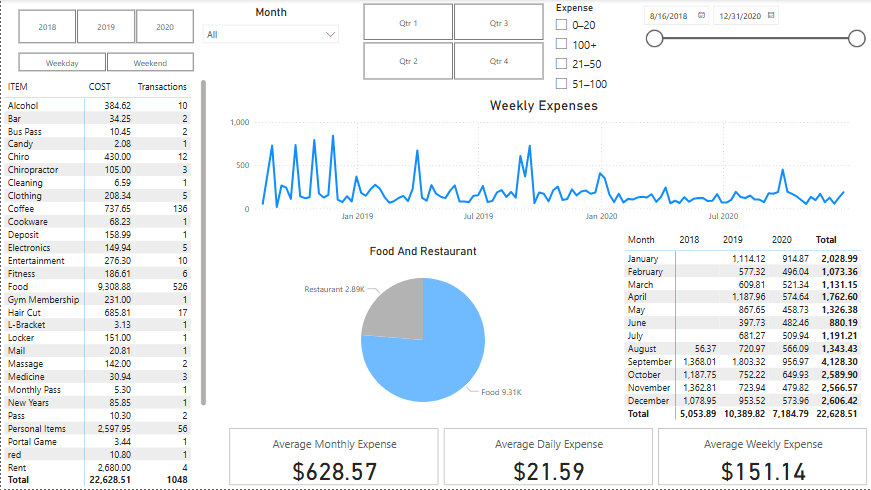

Layout of this report page (visuals, bound fields, positions):
{"tool":"powerbi","page":{"name":"Page 2","canvas":[1280,720],"ordinal":1},"visuals":[{"type":"slicer","fields":{"Values":["Financial_Data.DATE.Variation.Date Hierarchy.Year"]},"box":[0,8.8,307.1,63.2],"z":0},{"type":"slicer","title":"Month","fields":{"Values":["Financial_Data.DATE.Variation.Date Hierarchy.Month"]},"box":[286.5,8.8,220.4,76.4],"z":1000},{"type":"slicer","fields":{"Values":["Financial_Data.DATE.Variation.Date Hierarchy.Quarter"]},"box":[506.9,0,314.4,124.9],"z":2000},{"type":"slicer","fields":{"Values":["Financial_Data.Cost Range"]},"box":[802.3,0,129.3,144],"z":3000},{"type":"slicer","fields":{"Values":["Financial_Data.DATE"]},"box":[931.6,0,346.8,76.4],"z":4000},{"type":"slicer","fields":{"Values":["Financial_Data.Day Type"]},"box":[0,72,307.1,41.1],"z":5000},{"type":"lineChart","title":"Weekly Expenses","fields":{"Y":["Sum(Financial_Data.COST)"],"Category":["Financial_Data.Week Start.Variation.Date Hierarchy.Year","Financial_Data.Week Start.Variation.Date Hierarchy.Quarter","Financial_Data.Week Start.Variation.Date Hierarchy.Month","Financial_Data.Week Start.Variation.Date Hierarchy.Day"]},"box":[330.6,144,934.5,194],"z":5001},{"type":"cardVisual","fields":{"Data":["Financial_Data.Avg_Month","Financial_Data.Avg_Day","Financial_Data.Avg_Week"]},"box":[330.6,630.4,947.8,89.6],"z":5002},{"type":"pieChart","title":"Food And Restaurant","fields":{"Category":["Financial_Data.ITEM"],"Y":["Sum(Financial_Data.COST)"]},"box":[340.9,360,558.4,263],"z":5003},{"type":"pivotTable","fields":{"Rows":["Financial_Data.DATE.Variation.Date Hierarchy.Month"],"Columns":["Financial_Data.DATE.Variation.Date Hierarchy.Year"],"Values":["Sum(Financial_Data.COST)"]},"box":[911,338,368.8,285.1],"z":5004},{"type":"pivotTable","fields":{"Rows":["Financial_Data.ITEM"],"Values":["Sum(Financial_Data.COST)","CountNonNull(Financial_Data.COST)"]},"box":[0,113.1,307.1,606.9],"z":5005}]}

Visuals, with their boxes in screenshot pixels (x1, y1, x2, y2), scaled from the page's 1280x720 canvas onto the 871x490 screenshot:
slicer - Financial_Data.DATE.Variation.Date Hierarchy.Year: rect(0, 6, 209, 49)
"Month" slicer: rect(195, 6, 345, 58)
slicer - Financial_Data.DATE.Variation.Date Hierarchy.Quarter: rect(345, 0, 559, 85)
slicer - Financial_Data.Cost Range: rect(546, 0, 634, 98)
slicer - Financial_Data.DATE: rect(634, 0, 870, 52)
slicer - Financial_Data.Day Type: rect(0, 49, 209, 77)
"Weekly Expenses" lineChart: rect(225, 98, 861, 230)
cardVisual - Financial_Data.Avg_Month x Financial_Data.Avg_Day: rect(225, 429, 870, 489)
"Food And Restaurant" pieChart: rect(232, 245, 612, 424)
pivotTable - Financial_Data.DATE.Variation.Date Hierarchy.Month x Financial_Data.DATE.Variation.Date Hierarchy.Year: rect(620, 230, 870, 424)
pivotTable - Financial_Data.ITEM x Sum(Financial_Data.COST): rect(0, 77, 209, 489)
